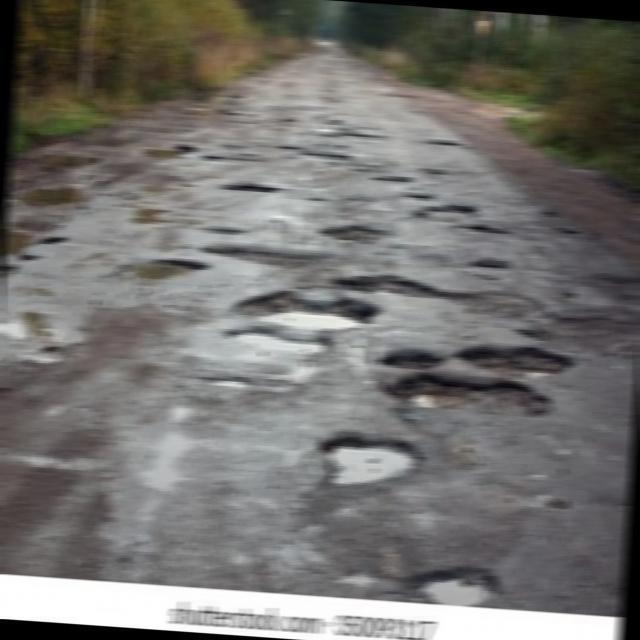Pothole: (375, 364, 554, 421), (316, 423, 429, 501), (212, 328, 332, 396), (230, 283, 384, 335), (335, 269, 522, 306), (0, 303, 97, 372), (407, 556, 515, 613), (458, 336, 585, 380), (200, 239, 335, 274), (122, 255, 212, 289), (369, 347, 446, 377), (331, 560, 393, 596), (314, 220, 401, 245), (122, 194, 171, 236), (276, 140, 358, 164), (321, 116, 395, 140), (460, 255, 518, 277), (422, 202, 485, 222), (458, 219, 510, 240), (218, 181, 286, 196), (371, 173, 415, 186), (430, 134, 464, 150), (420, 161, 448, 178), (403, 191, 436, 202), (199, 155, 237, 161), (278, 116, 292, 123)
